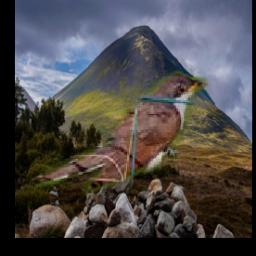Cuckoo: (30, 67, 209, 201)
